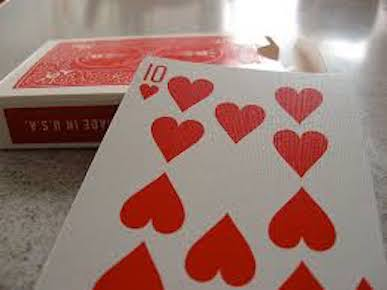TenOfHearts: (33, 54, 387, 290)
